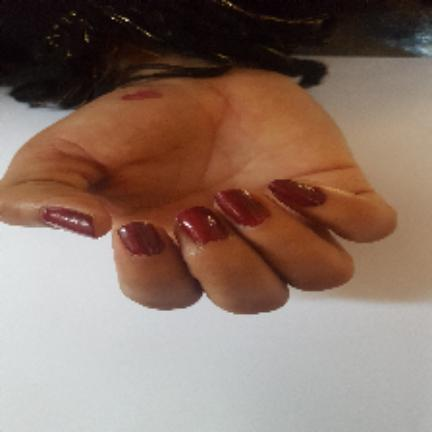Nail: (214, 190, 269, 227), (177, 207, 227, 243), (117, 222, 165, 255), (268, 180, 326, 207), (42, 208, 94, 237)
